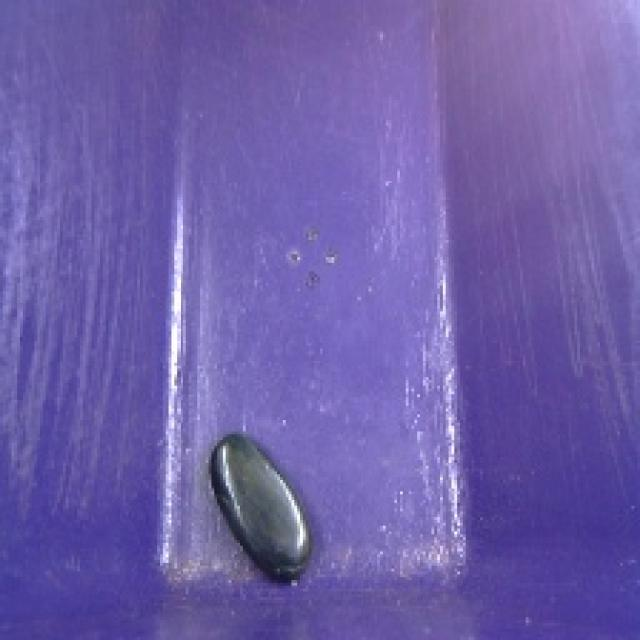cobbles: (199, 422, 325, 591)
